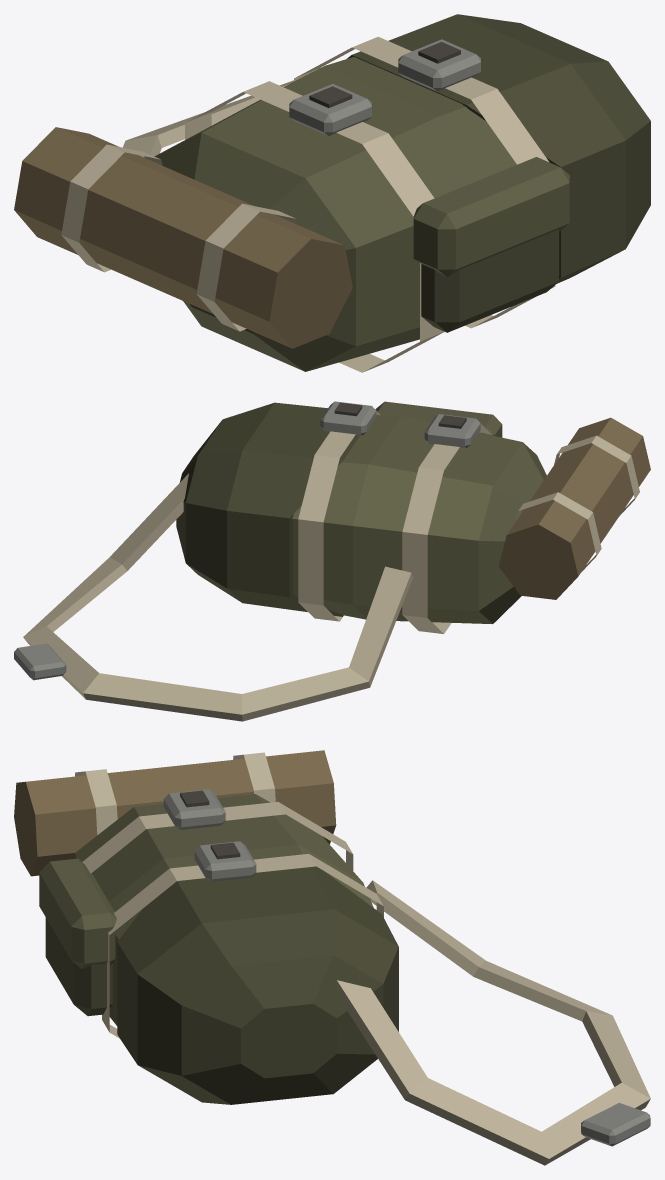
The model's file is saco.glb.
3 renders of one model, top to bottom at view 1: azimuth 30°, elevation 25°; view 2: azimuth 150°, elevation 25°; view 3: azimuth 270°, elevation 25°, orthographic. The views are drawn at different scales.
Parts seen in each view (by area): view 1: saco.001; view 2: saco.001; view 3: saco.001.
Boxes of the visible parts, box(x1,y1,x2,y2) form: saco.001: box(14, 14, 650, 372); saco.001: box(14, 401, 650, 721); saco.001: box(14, 750, 650, 1165).
Size of the model in its own units: 0.6779 by 0.2579 by 0.7034.
